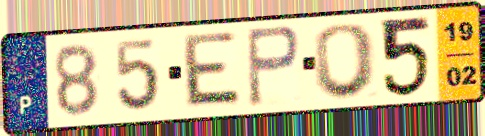5: (376, 13, 435, 99), (114, 36, 163, 114)
8: (52, 42, 102, 119)
E: (181, 29, 245, 110)
O: (311, 21, 380, 102)
P: (243, 23, 303, 110)
